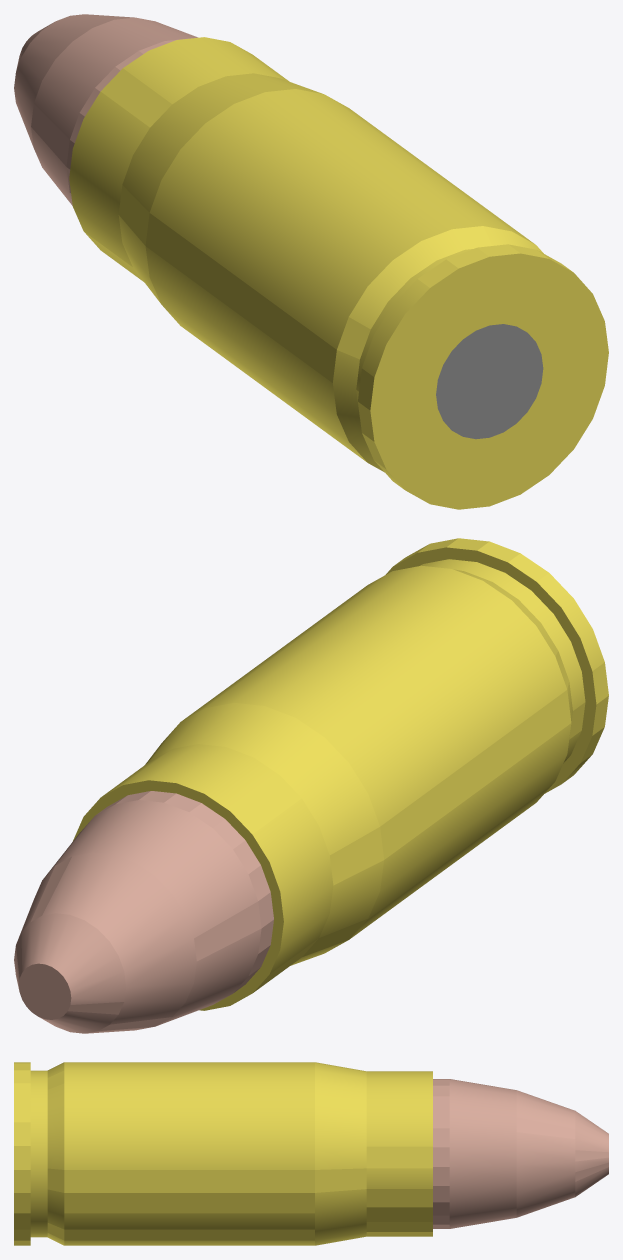
File: ammo_sniper.fbx
3 views of the same model, one above another, from view 1: azimuth 30°, elevation 25°; view 2: azimuth 150°, elevation 25°; view 3: azimuth 270°, elevation 25° (orthographic). The views are drawn at different scales.
Parts seen in each view (by area): view 1: imagetostl_mesh209, imagetostl_mesh108, imagetostl_mesh18, imagetostl_mesh67, imagetostl_mesh208, imagetostl_mesh207, imagetostl_mesh15, imagetostl_mesh206, imagetostl_mesh110, imagetostl_mesh96, imagetostl_mesh319, imagetostl_mesh239 (+48 smaller); view 2: imagetostl_mesh209, imagetostl_mesh67, imagetostl_mesh18, imagetostl_mesh208, imagetostl_mesh207, imagetostl_mesh15, imagetostl_mesh206, imagetostl_mesh319, imagetostl_mesh10, imagetostl_mesh205, imagetostl_mesh358, imagetostl_mesh415 (+50 smaller); view 3: imagetostl_mesh233, imagetostl_mesh28, imagetostl_mesh177, imagetostl_mesh31, imagetostl_mesh154, imagetostl_mesh205, imagetostl_mesh151, imagetostl_mesh206, imagetostl_mesh229, imagetostl_mesh207, imagetostl_mesh175, imagetostl_mesh119 (+67 smaller).
Part boxes in pixels (bbox=[...]): imagetostl_mesh209: bbox=[161, 123, 392, 316]; imagetostl_mesh108: bbox=[436, 324, 543, 439]; imagetostl_mesh18: bbox=[149, 180, 348, 349]; imagetostl_mesh67: bbox=[118, 185, 336, 382]; imagetostl_mesh208: bbox=[205, 104, 420, 260]; imagetostl_mesh207: bbox=[234, 92, 451, 240]; imagetostl_mesh15: bbox=[145, 246, 336, 414]; imagetostl_mesh206: bbox=[265, 89, 482, 229]; imagetostl_mesh110: bbox=[463, 412, 548, 506]; imagetostl_mesh96: bbox=[386, 314, 429, 503]; imagetostl_mesh319: bbox=[73, 91, 149, 184]; imagetostl_mesh239: bbox=[574, 273, 604, 448]; imagetostl_mesh209: bbox=[324, 600, 555, 793]; imagetostl_mesh67: bbox=[330, 690, 571, 885]; imagetostl_mesh18: bbox=[368, 657, 567, 826]; imagetostl_mesh208: bbox=[296, 581, 511, 736]; imagetostl_mesh207: bbox=[265, 569, 482, 717]; imagetostl_mesh15: bbox=[380, 723, 571, 890]; imagetostl_mesh206: bbox=[234, 565, 451, 705]; imagetostl_mesh319: bbox=[252, 798, 329, 891]; imagetostl_mesh10: bbox=[368, 755, 566, 917]; imagetostl_mesh205: bbox=[206, 566, 420, 707]; imagetostl_mesh358: bbox=[18, 963, 71, 1019]; imagetostl_mesh415: bbox=[173, 849, 248, 914]; imagetostl_mesh233: bbox=[64, 1168, 366, 1192]; imagetostl_mesh28: bbox=[64, 1122, 314, 1145]; imagetostl_mesh177: bbox=[64, 1146, 314, 1169]; imagetostl_mesh31: bbox=[64, 1101, 314, 1122]; imagetostl_mesh154: bbox=[64, 1193, 314, 1213]; imagetostl_mesh205: bbox=[64, 1083, 314, 1100]; imagetostl_mesh151: bbox=[64, 1213, 314, 1229]; imagetostl_mesh206: bbox=[64, 1070, 314, 1083]; imagetostl_mesh229: bbox=[47, 1223, 314, 1240]; imagetostl_mesh207: bbox=[64, 1063, 314, 1070]; imagetostl_mesh175: bbox=[366, 1146, 432, 1168]; imagetostl_mesh119: bbox=[64, 1240, 314, 1245].
Bounding box in the file's own units: 0.66 × 0.66 × 2.13.
